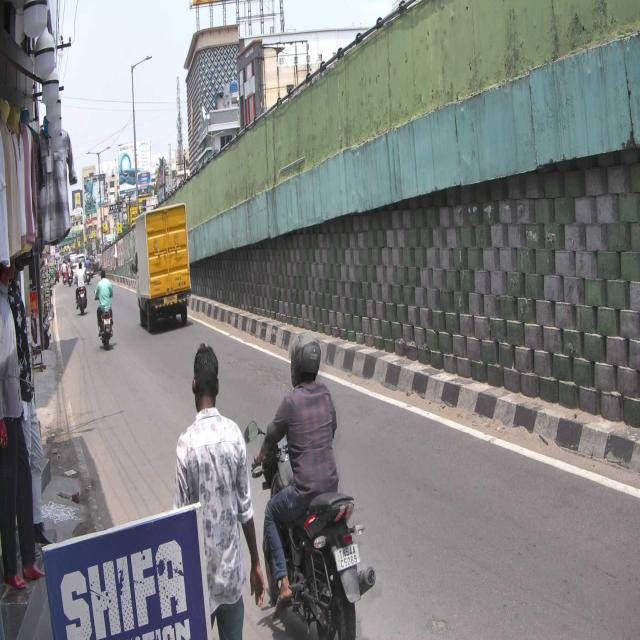single_rider: (250, 327, 376, 640)
